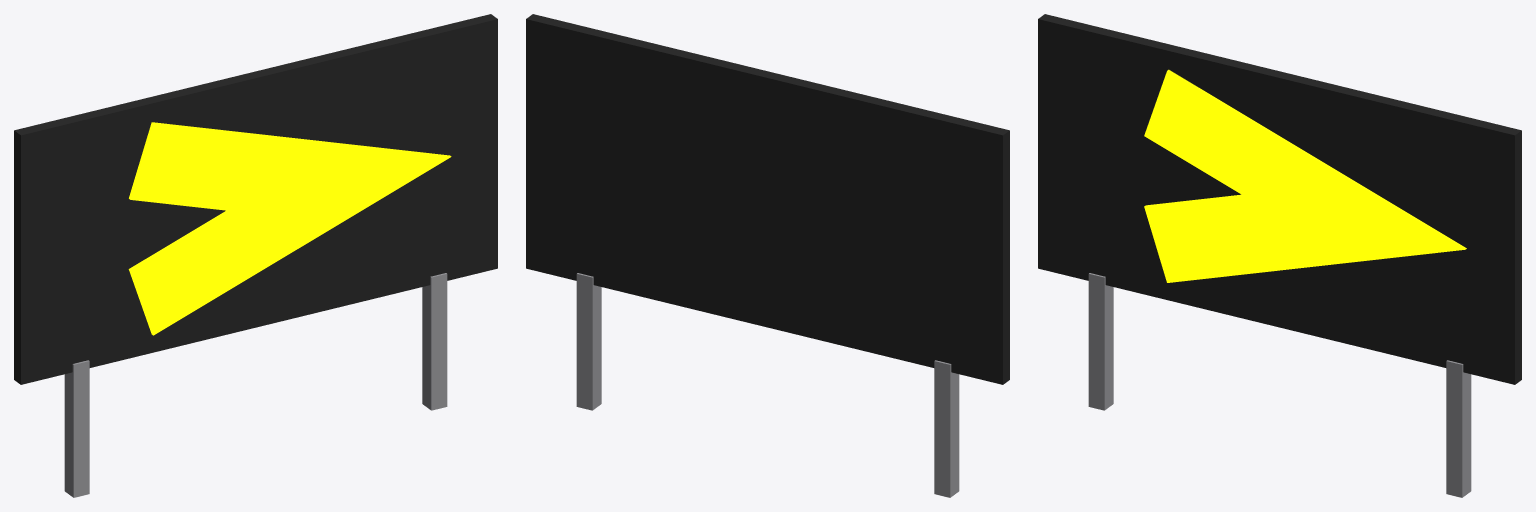
Rendered from sign.glb.
The picture shows the model from 3 angles, left to right: view 1: azimuth 30°, elevation 25°; view 2: azimuth 150°, elevation 25°; view 3: azimuth 330°, elevation 25°; orthographic projection.
Visible parts, largest first — view 1: sign; view 2: sign; view 3: sign.
Part boxes in pixels (<box>): sign: <box>14,14,497,497</box>; sign: <box>526,14,1009,497</box>; sign: <box>1038,14,1521,497</box>.
Size of the model in its own units: 2.4 by 1.8 by 0.085.
